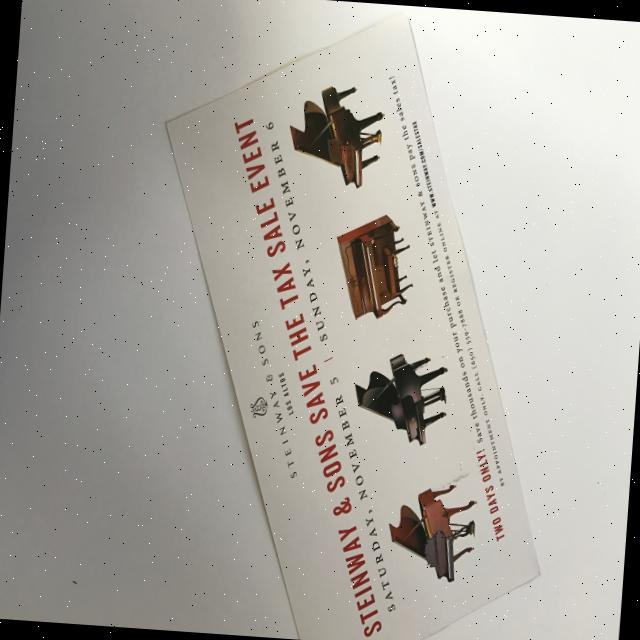paper: (127, 0, 579, 640)
